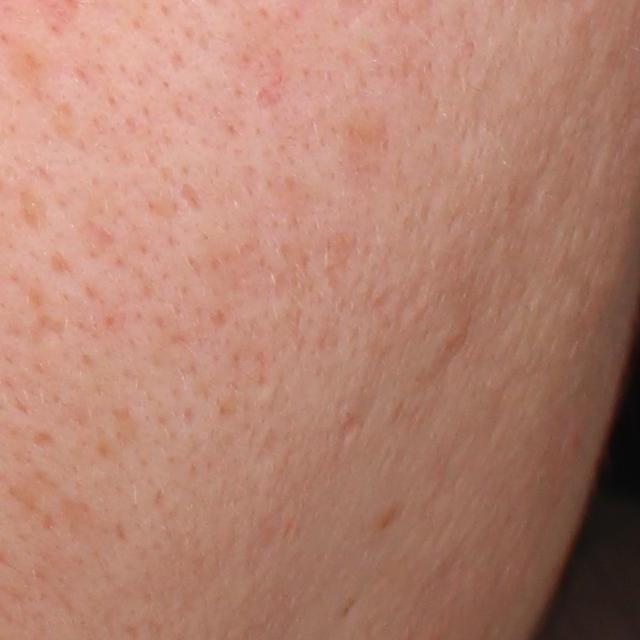atrophic_scar: (20, 182, 57, 233), (24, 318, 67, 343), (178, 177, 205, 206)
